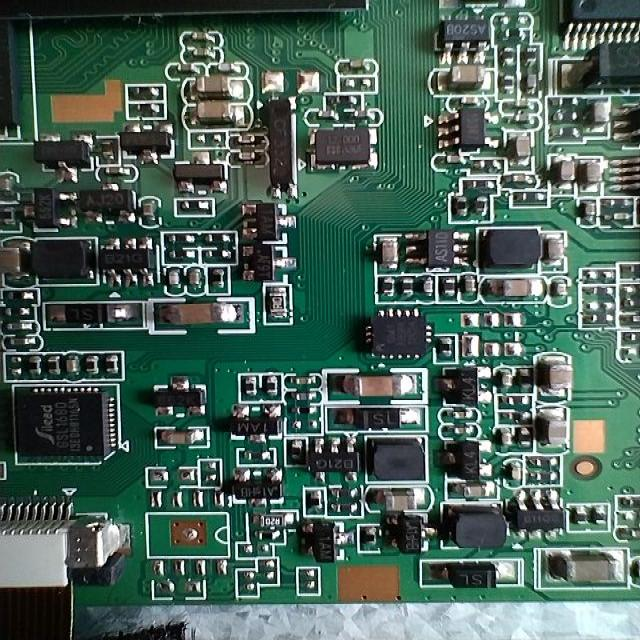capacitor: (527, 538, 640, 628), (145, 289, 258, 346), (516, 337, 597, 408), (322, 364, 429, 410), (520, 400, 584, 461), (187, 81, 256, 135), (181, 68, 260, 115), (358, 478, 436, 524), (412, 54, 498, 94), (483, 270, 556, 308), (548, 146, 582, 217), (578, 91, 617, 146), (372, 222, 406, 282), (504, 122, 532, 176)
